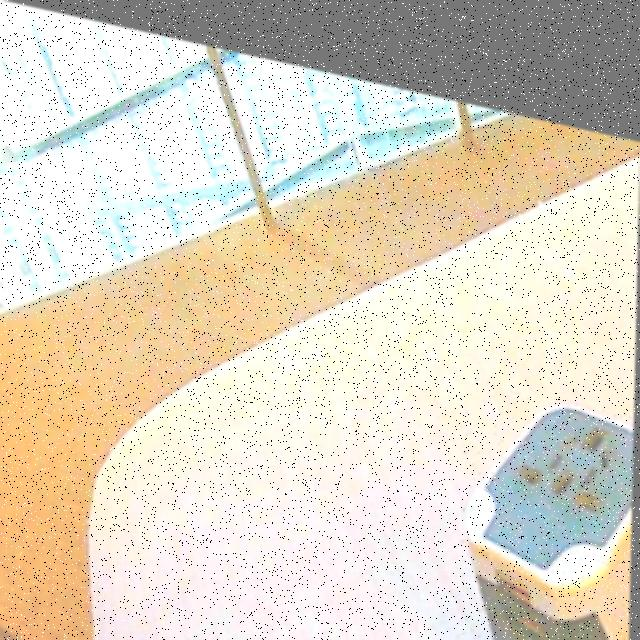adapter: (461, 354, 635, 640)
